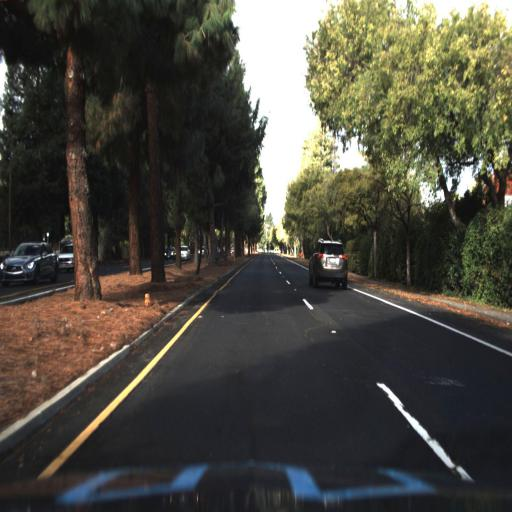car: (0, 242, 62, 288), (308, 234, 347, 282)
